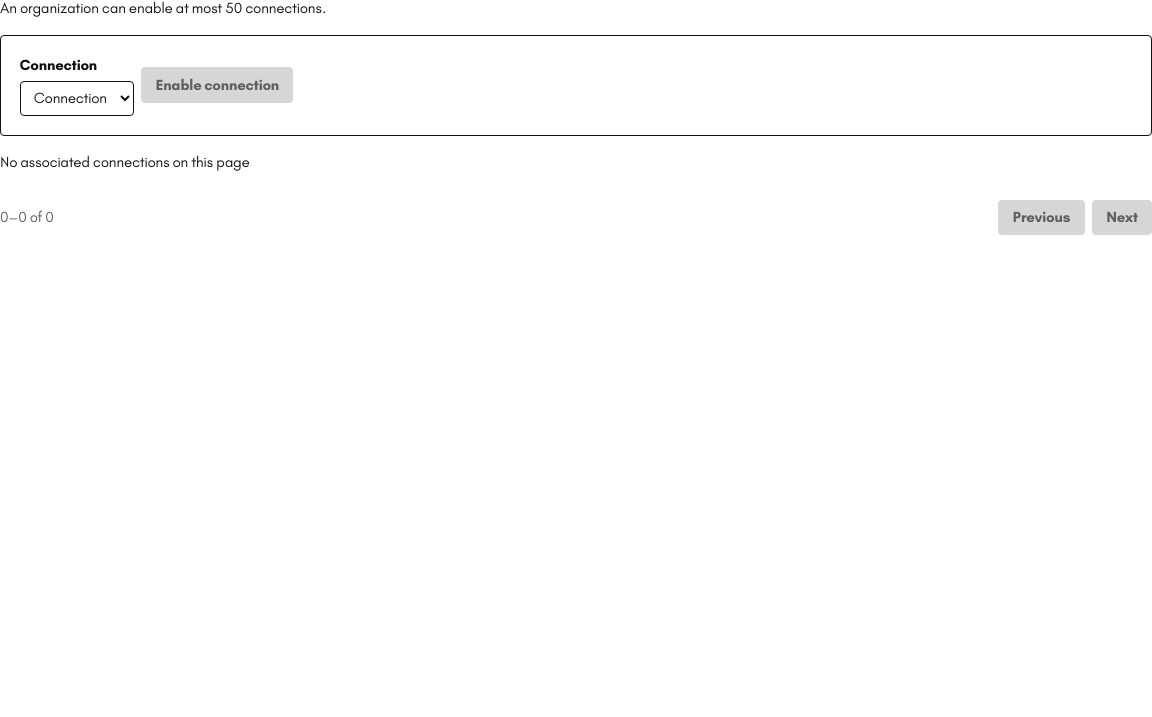
Test: enables and disables a connection and clears the successful enable selection
Select "Users db" in the dropdown with id "organization-connection": coordinates (77, 98) [20,80,134,116]
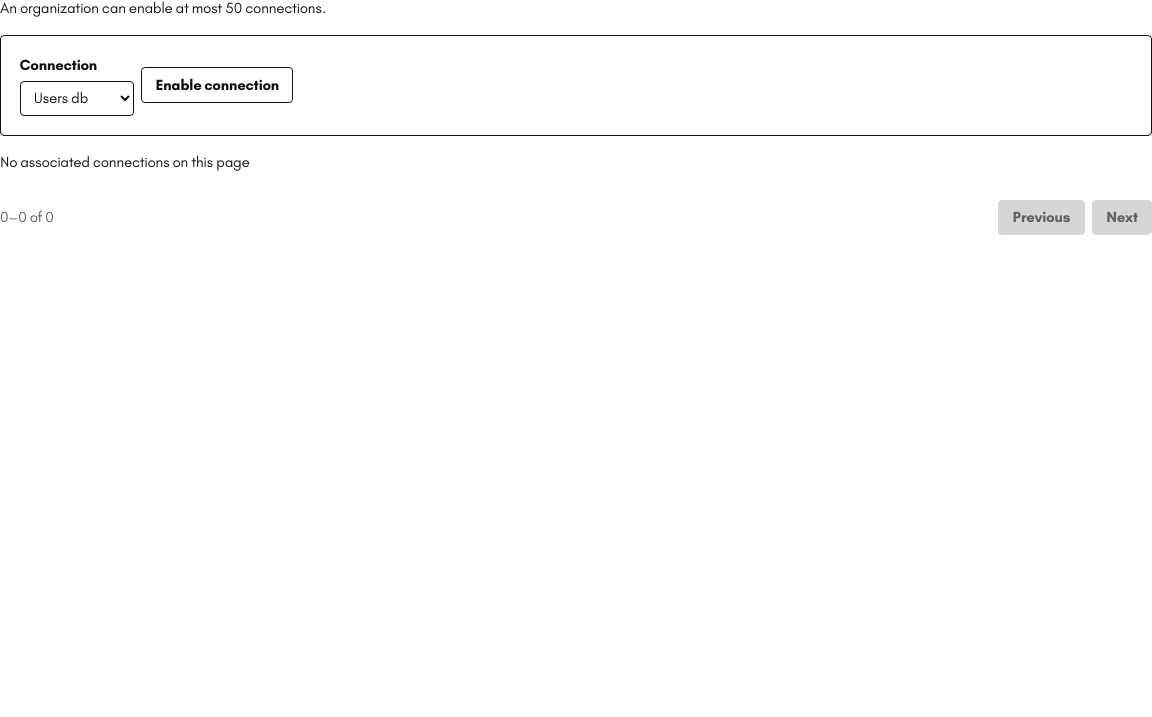
Submit the form, box [0,34,1151,136]
(page scrolled)
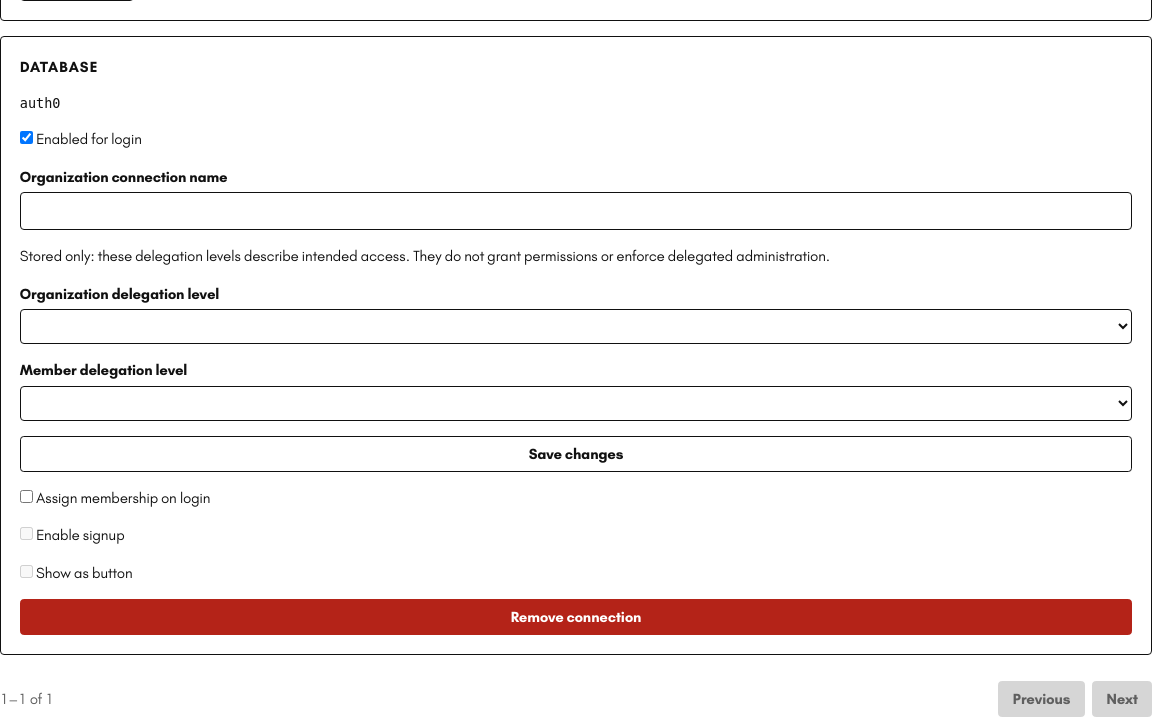
Click the button "Remove connection": coordinates (576, 617) [20,599,1132,635]
(page scrolled)
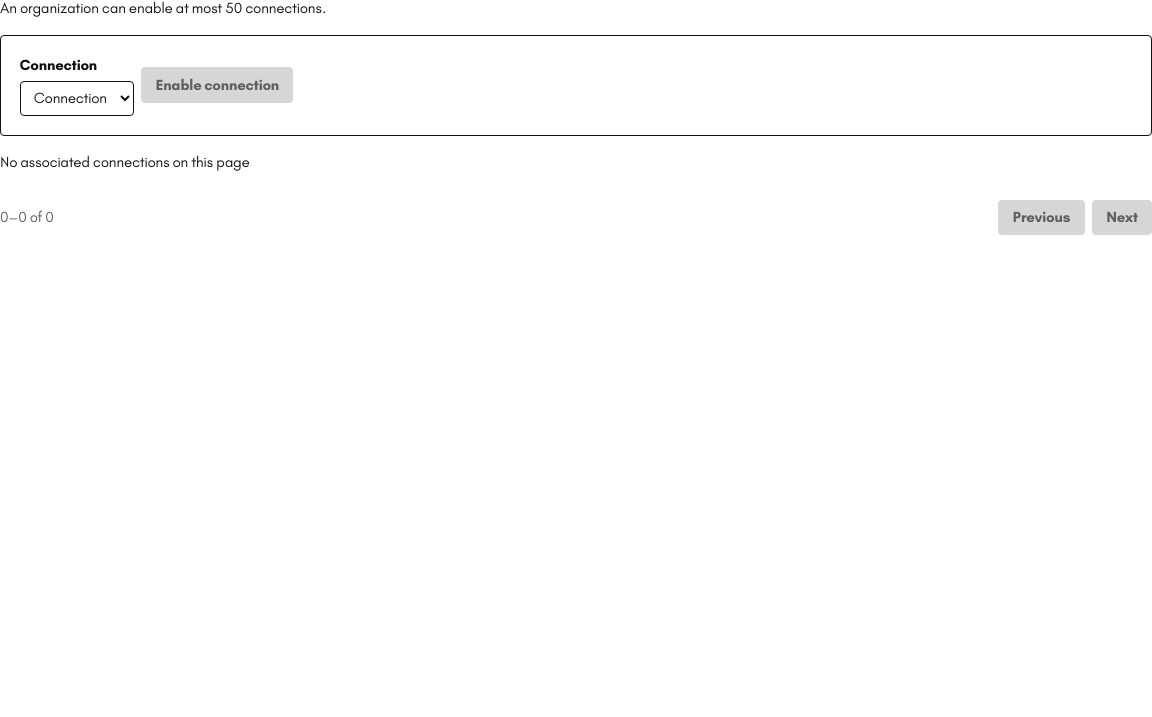
Expected: the text "No associated connections" is shown, [0,153,250,171]
